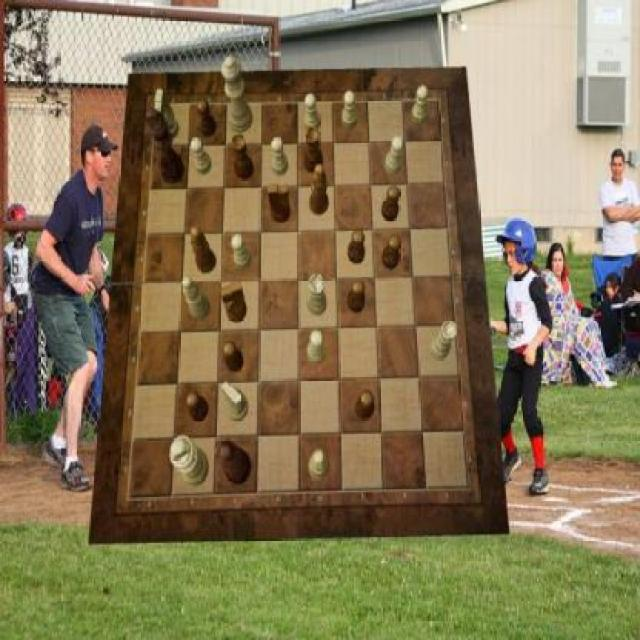bishop: (192, 228, 217, 274), (309, 165, 329, 217)
black-bishop: (147, 108, 186, 184)
black-king: (222, 280, 248, 322), (268, 185, 290, 223)
black-knight: (197, 100, 217, 138), (186, 391, 209, 422), (223, 341, 244, 374), (382, 235, 401, 270), (348, 229, 365, 264), (382, 186, 399, 221), (348, 278, 365, 312), (356, 389, 374, 420)
black-pawn: (215, 438, 252, 484)
black-queen: (231, 134, 254, 180), (304, 128, 324, 174)
black-rook: (182, 276, 210, 320), (308, 449, 330, 482)
white-bishop: (170, 435, 208, 488)
white-king: (154, 89, 178, 140), (222, 383, 248, 423)
white-knight: (190, 137, 212, 175), (232, 234, 252, 270), (410, 84, 428, 124), (271, 137, 288, 175), (385, 137, 402, 175), (304, 94, 320, 134), (341, 91, 357, 129), (308, 329, 325, 364)
white-pawn: (221, 55, 254, 133)
white-queen: (431, 320, 458, 360), (308, 274, 328, 315)
